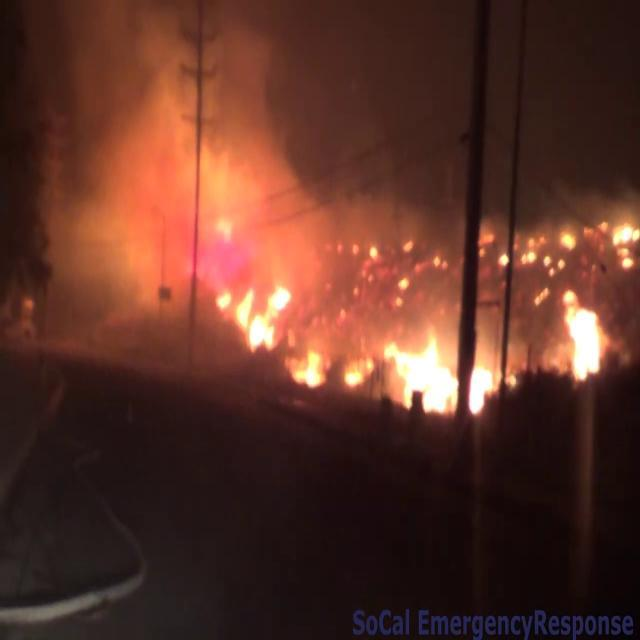Fire: (390, 320, 500, 417), (390, 321, 465, 416), (218, 264, 296, 353), (558, 293, 610, 383)
Smoke: (11, 0, 348, 270)
